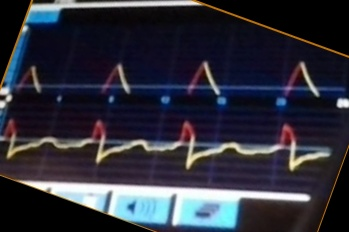Ineffective_effort Flow: (1, 113, 329, 175)
Ineffective_effort Volume: (18, 55, 322, 96)
